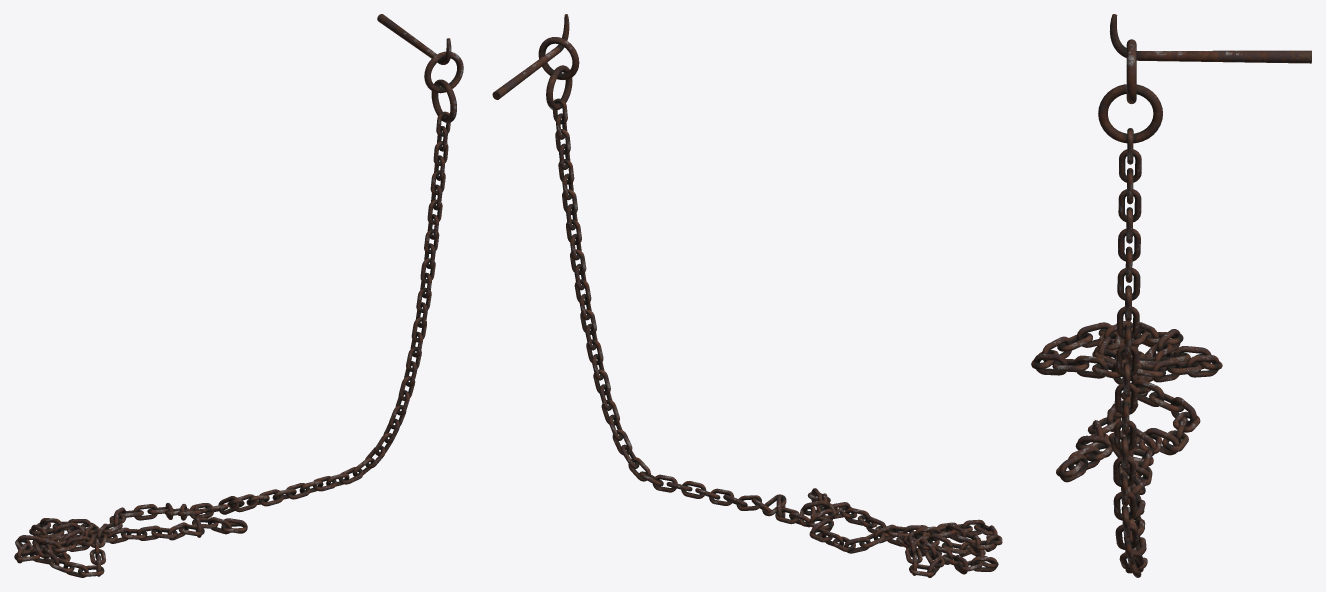
The model's file is chains_12mb.glb.
3 renders of one model, left to right at view 1: azimuth 30°, elevation 25°; view 2: azimuth 150°, elevation 25°; view 3: azimuth 270°, elevation 25°, orthographic. The views are drawn at different scales.
Parts seen in each view (by area): view 1: Sweep, Torus_1, Torus; view 2: Sweep, Torus_1; view 3: Sweep, Torus, Torus_1, Sweep_1_98, Sweep_1_96, Sweep_1_92, Sweep_1_90, Sweep_1_94, Sweep_1_88, Sweep_1_86, Sweep_1_84, Sweep_1_46 (+8 smaller).
Part boxes in pixels (<box>): Sweep: <box>377,14,451,64</box>; Torus_1: <box>424,51,463,93</box>; Torus: <box>431,79,456,122</box>; Sweep: <box>492,14,569,99</box>; Torus_1: <box>538,37,579,79</box>; Sweep: <box>1109,14,1311,63</box>; Torus: <box>1098,84,1162,143</box>; Torus_1: <box>1126,39,1136,104</box>; Sweep_1_98: <box>1119,149,1141,182</box>; Sweep_1_96: <box>1118,189,1141,222</box>; Sweep_1_92: <box>1117,268,1140,300</box>; Sweep_1_90: <box>1116,306,1139,339</box>; Sweep_1_94: <box>1118,228,1140,261</box>; Sweep_1_88: <box>1115,344,1138,377</box>; Sweep_1_86: <box>1114,382,1137,414</box>; Sweep_1_84: <box>1113,420,1136,451</box>; Sweep_1_46: <box>1073,355,1108,378</box>.
Size of the model in its own units: 4.62 by 4.26 by 1.73.
Materials: 1 (1 with a texture image).
